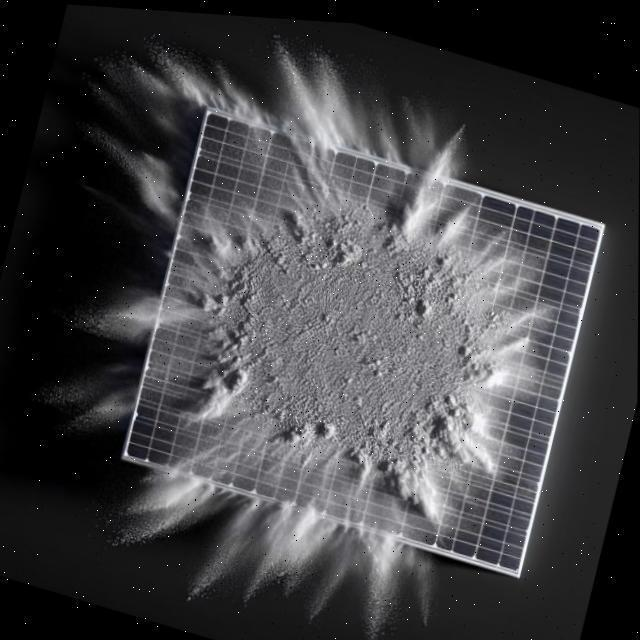Anomaly Solar Panel: (122, 106, 602, 568)
Surface Contaminant: (124, 110, 600, 564)
